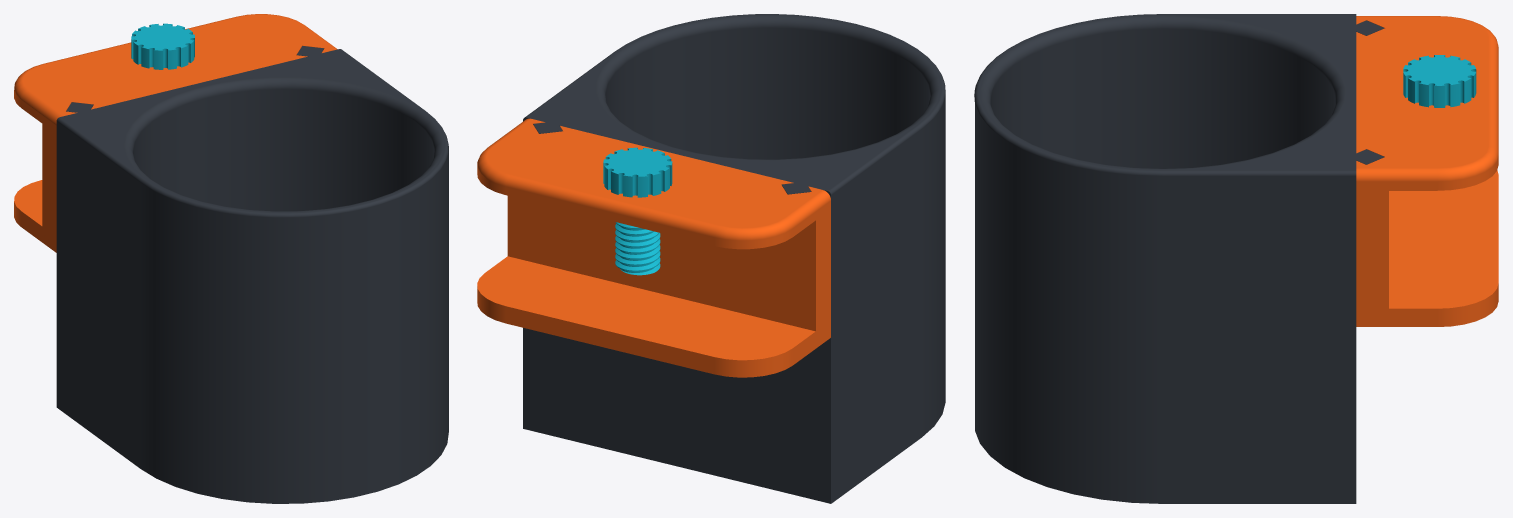
File: Clip on Desk Water Holder.glb
3 renders of one model, left to right at view 1: azimuth 30°, elevation 25°; view 2: azimuth 150°, elevation 25°; view 3: azimuth 270°, elevation 25°, orthographic. The views are drawn at different scales.
Parts seen in each view (by area): view 1: Clip on Desk Water Holder; view 2: Clip on Desk Water Holder; view 3: Clip on Desk Water Holder.
Part boxes in pixels (x1,y1,x2,y2): Clip on Desk Water Holder: [14, 14, 448, 503]; Clip on Desk Water Holder: [477, 14, 945, 503]; Clip on Desk Water Holder: [974, 14, 1498, 503].
Size of the model in its own units: 9.3 by 9.6 by 12.9.
